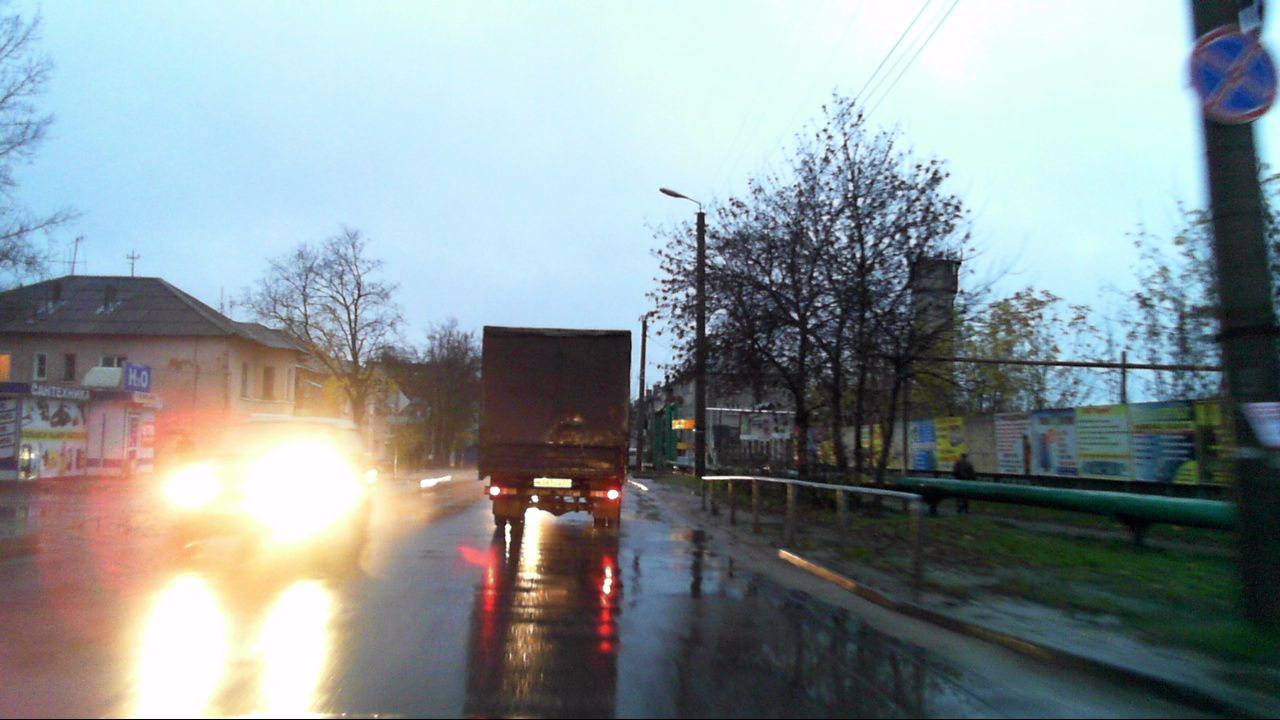No Parking: (1184, 28, 1279, 123)
